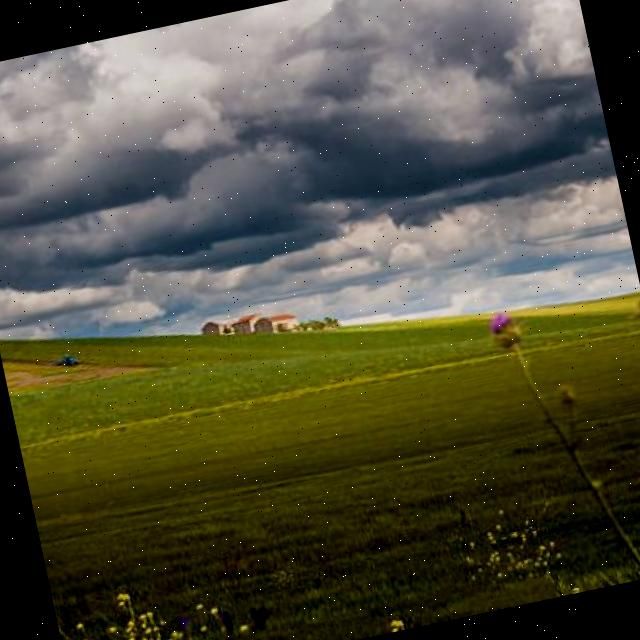Ns: (1, 1, 624, 342)
